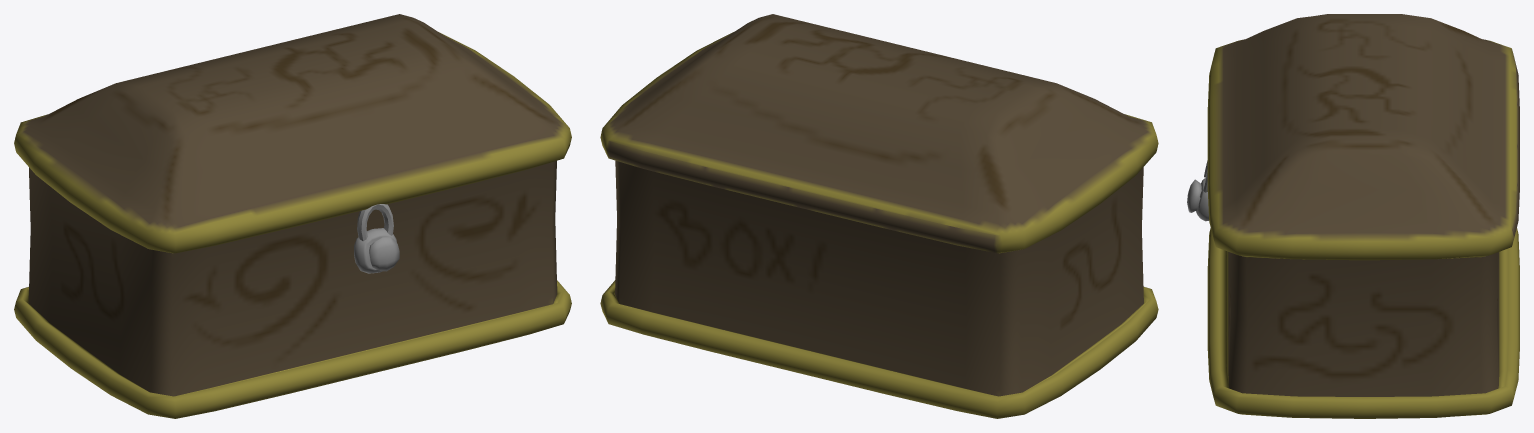
Rendered from jewely chest.fbx.
3 views of the same model, side by side, from view 1: azimuth 30°, elevation 25°; view 2: azimuth 150°, elevation 25°; view 3: azimuth 270°, elevation 25° (orthographic). The views are drawn at different scales.
Parts seen in each view (by area): view 1: polySurface404; view 2: polySurface404; view 3: polySurface404.
Boxes of the visible parts, box(x1,y1,x2,y2) form: polySurface404: box(14, 14, 571, 418); polySurface404: box(600, 14, 1158, 418); polySurface404: box(1187, 14, 1519, 418).
Size of the model in its own units: 0.8946 by 0.4788 by 0.6005.
Materials: 1 (1 with a texture image).
